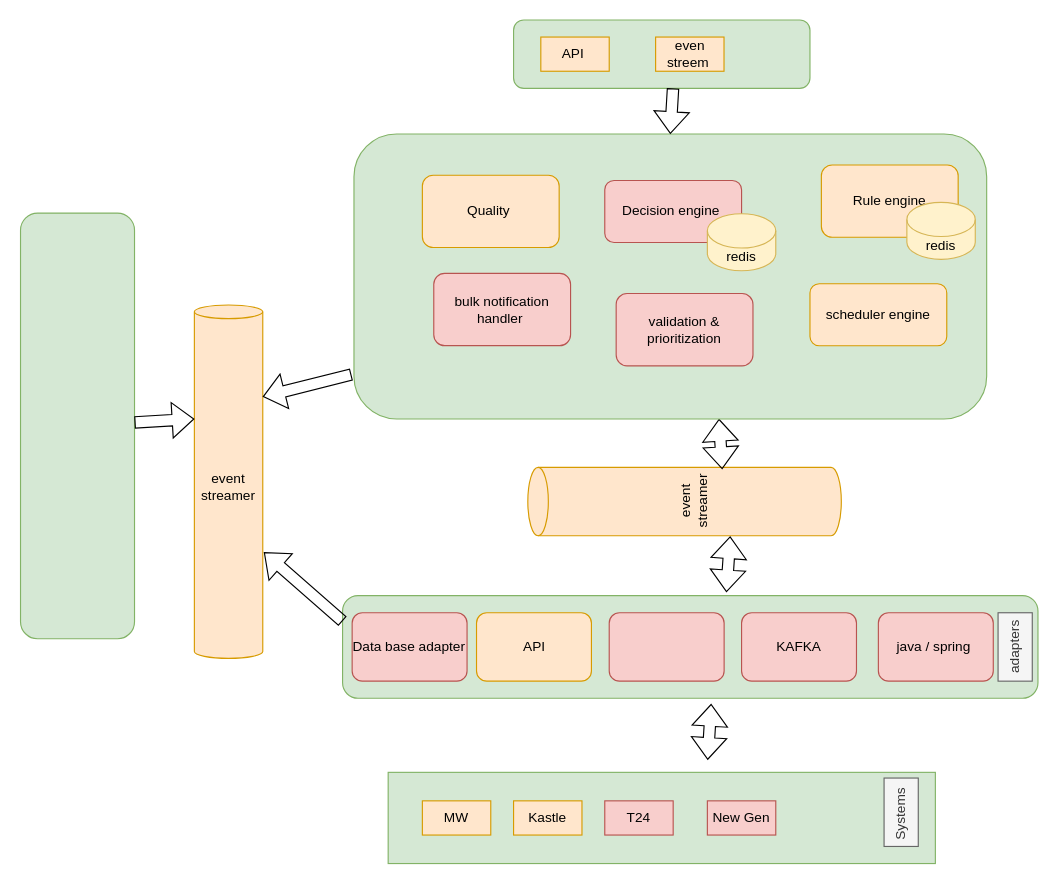
The diagram is 1058 pixels wide and 884 high, and some of its shapes have lost their labels. Each missing label, with the box of its shape:
analytic tool and logger: (19, 212, 135, 639)
MQ: (608, 612, 724, 681)
